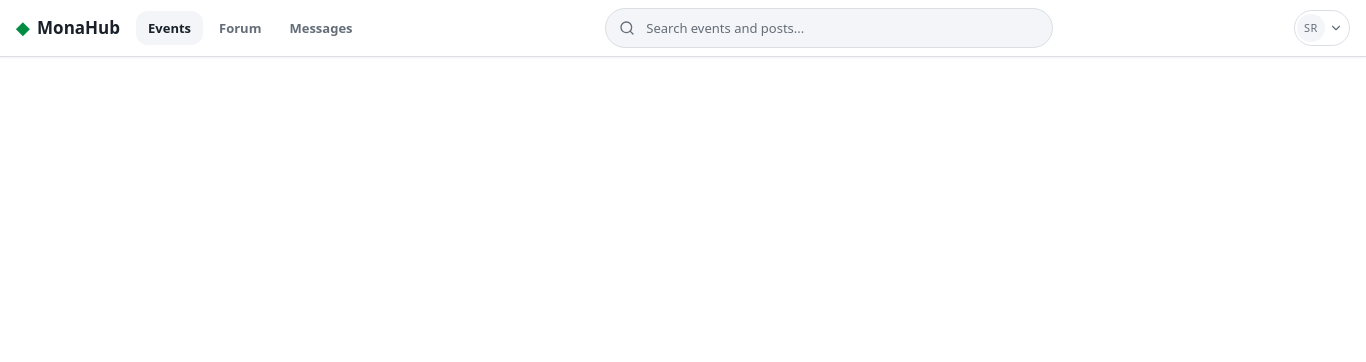
SiteHeader › closes the menu on Escape
Step 1. Click the button with aria-label "Account menu" → click(1322, 28), box [1294,10,1350,46]
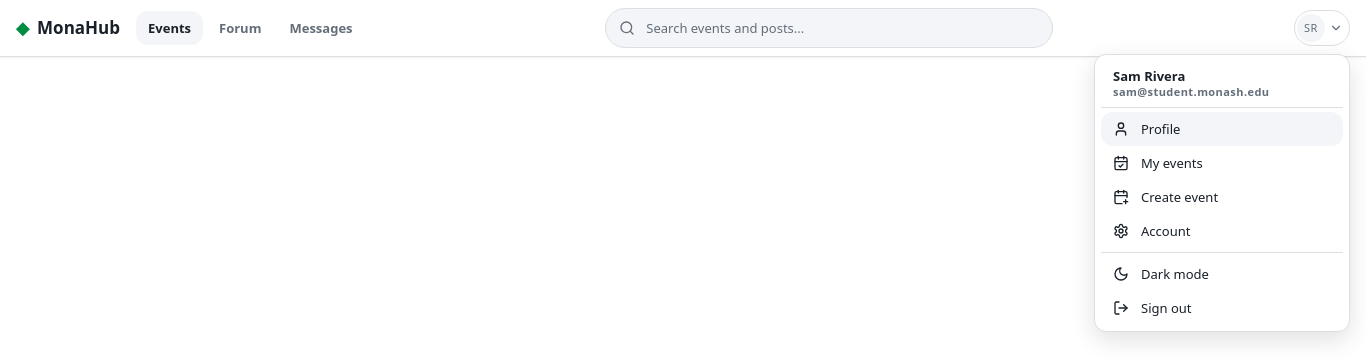
Step 2. Press Escape
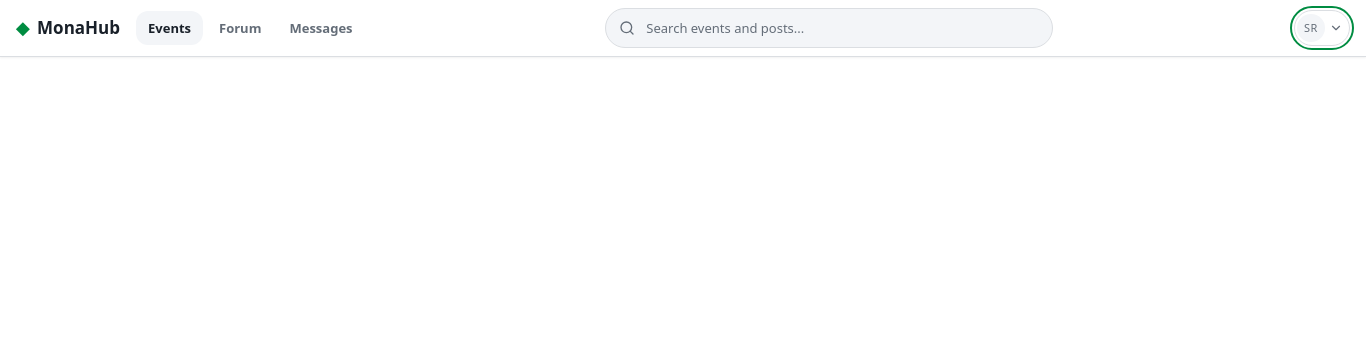
expect the menu is gone: met
